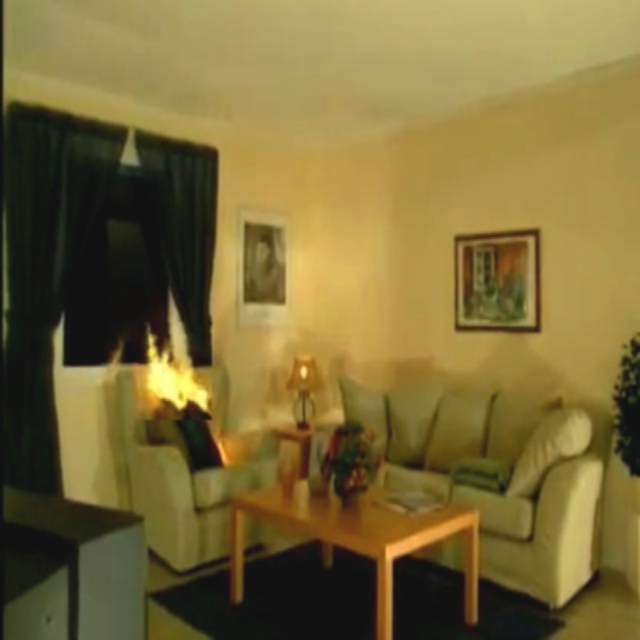fire: (141, 336, 210, 412)
